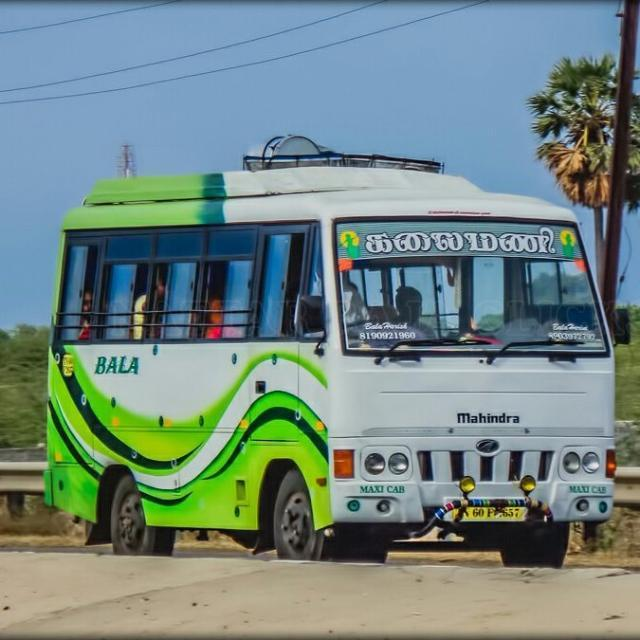Bus: (45, 165, 632, 560)
